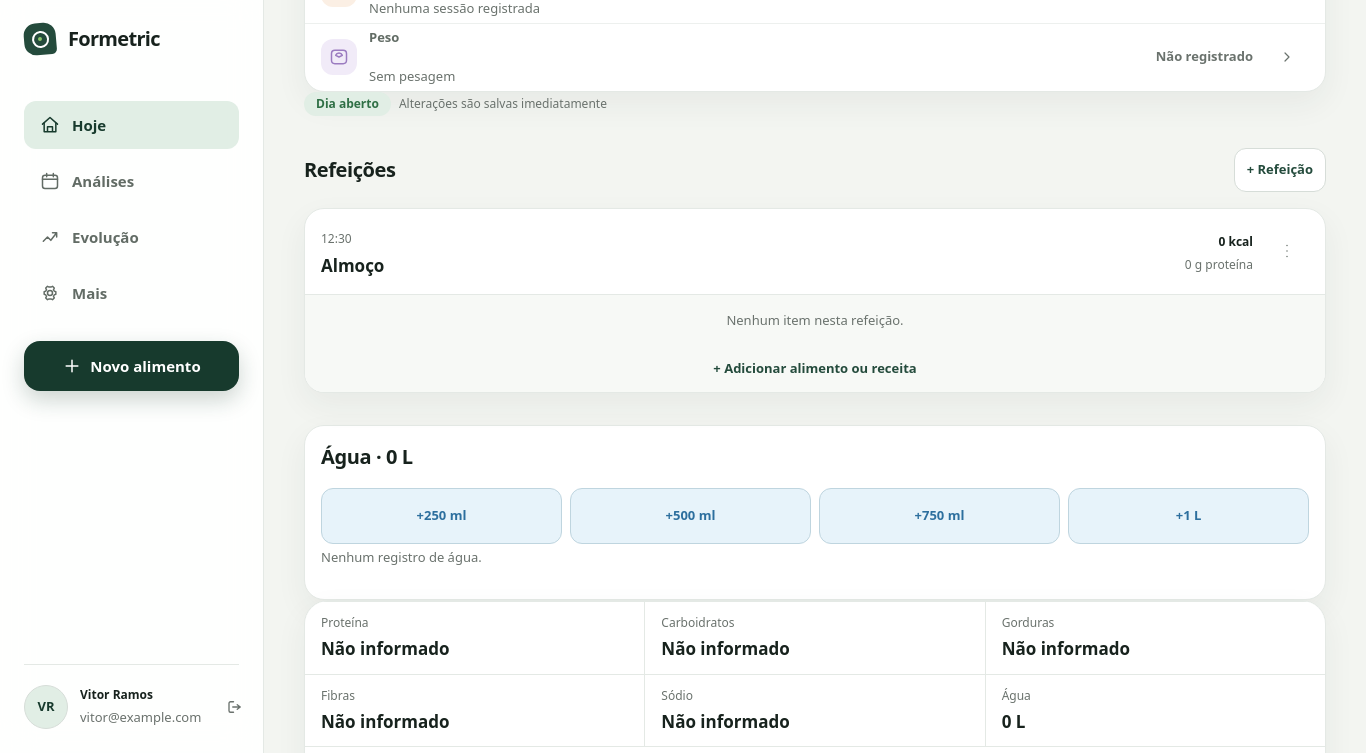
Test: diário › adiciona item usando servingOptionId e snapshot retornado
(page scrolled)
Click the button "+ Adicionar alimento ou receita" at (815, 369), box [305,347,1325,392]
(page scrolled)
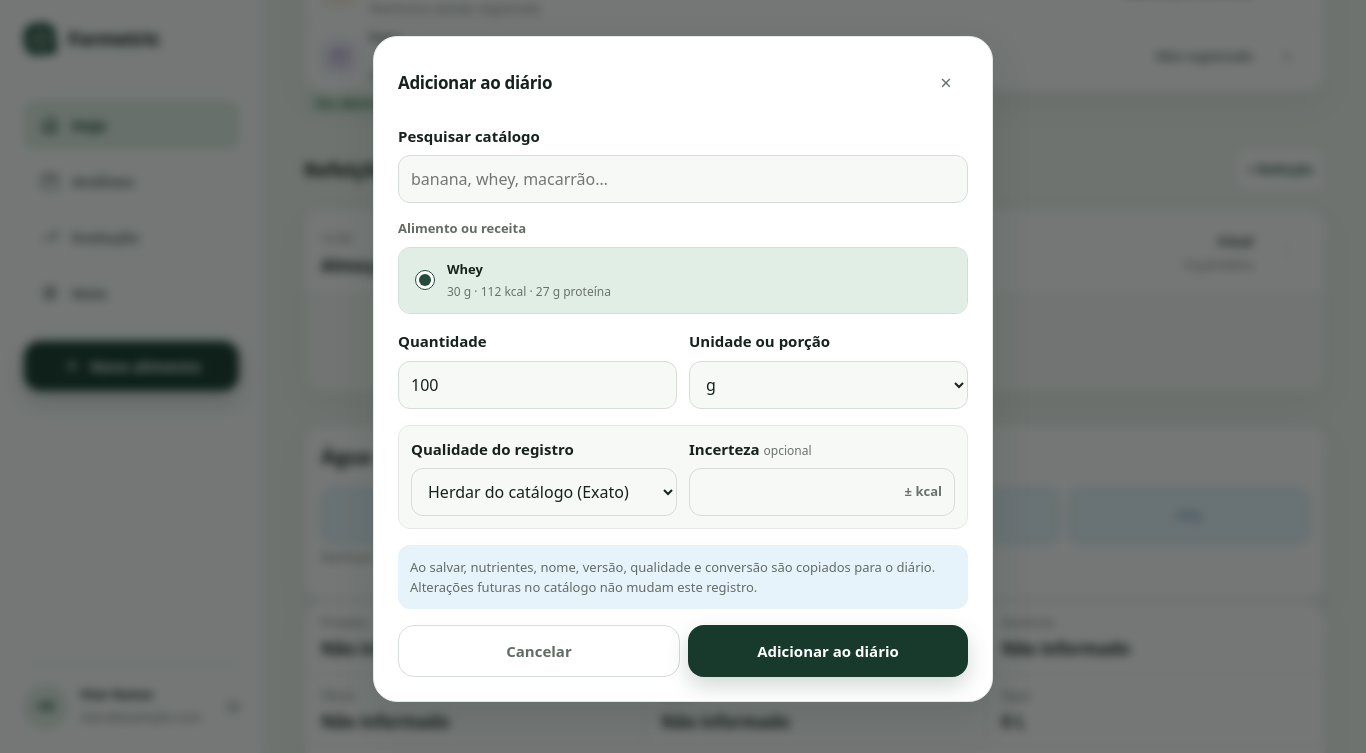
Click the radio button labelled "Whey" at (425, 280), box [415,270,435,290]
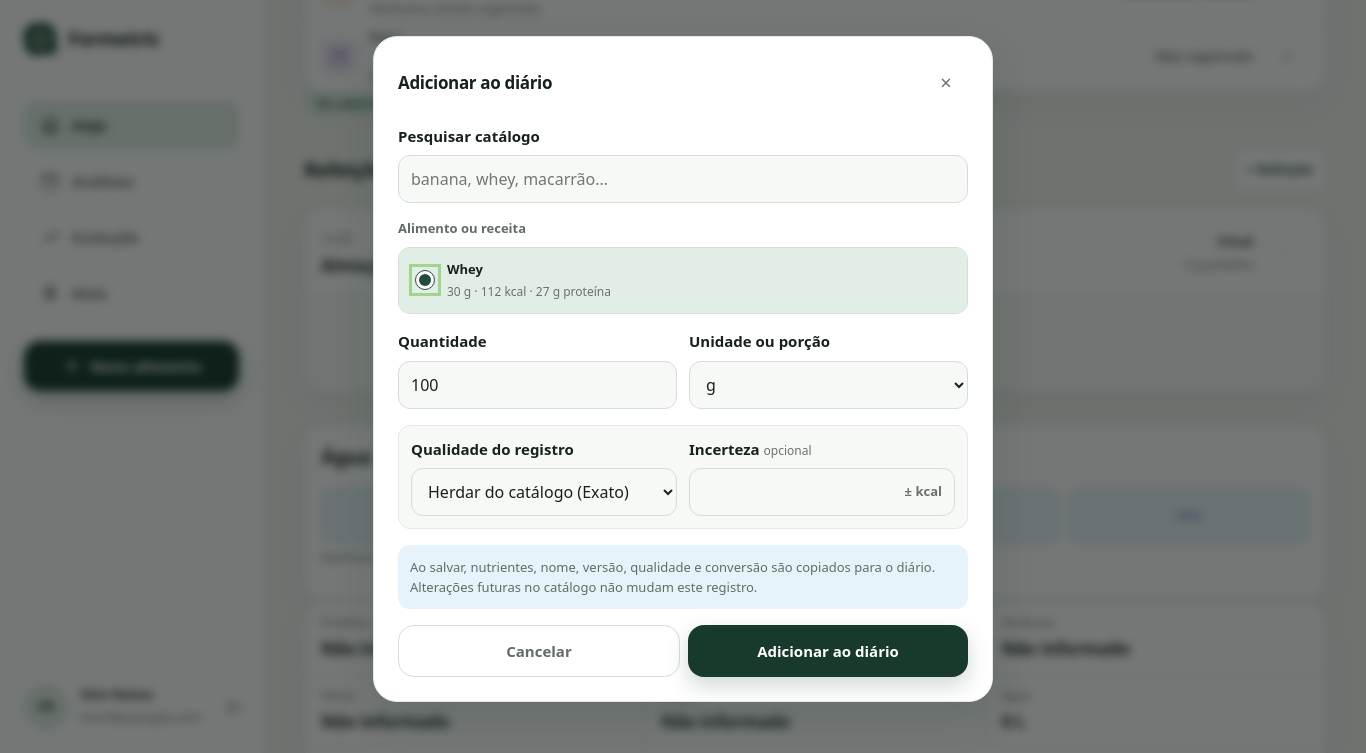
Select "Dosador (1 porção)" in the dropdown labelled "Unidade ou porção" at (828, 385), box [689,361,968,409]
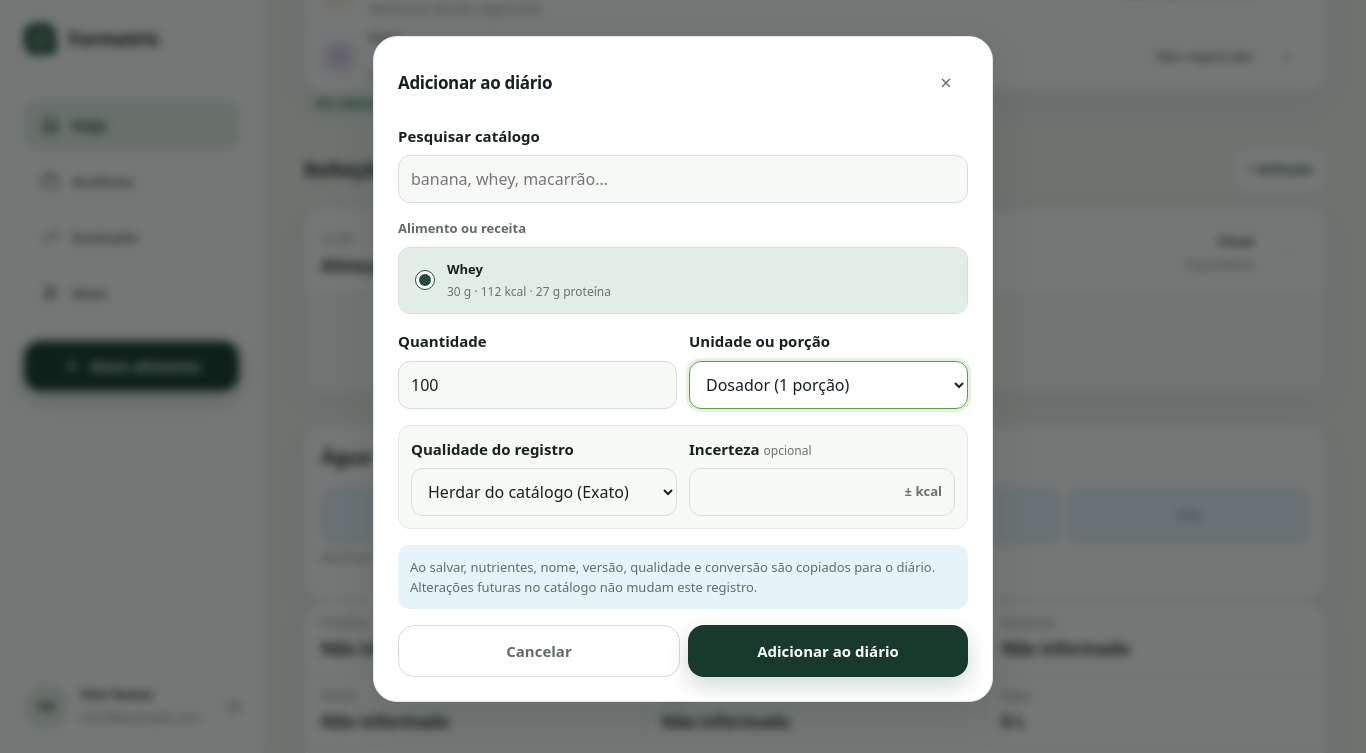
Replace the text in the number field labelled "Quantidade" with "1" at (538, 385), box [398,361,677,409]
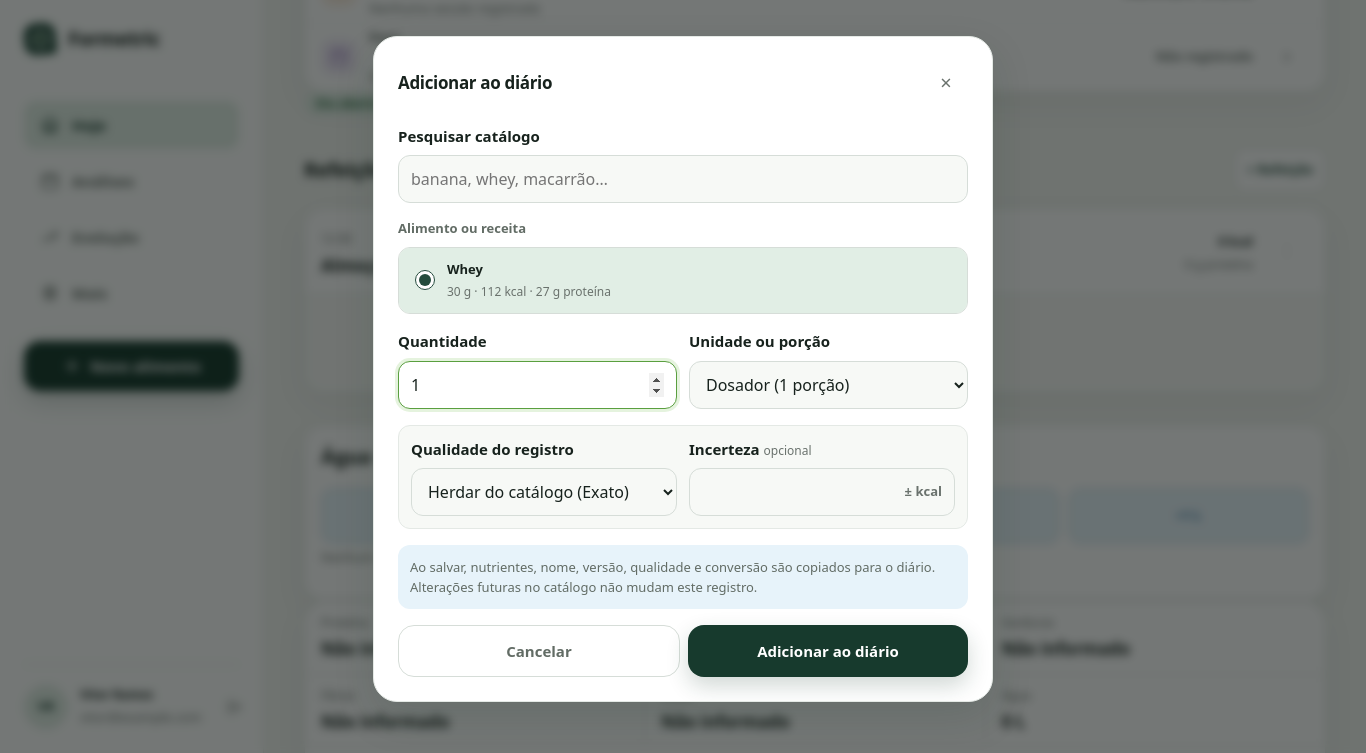
Click the button "Adicionar ao diário" at (828, 651), box [688,625,968,677]
(page scrolled)
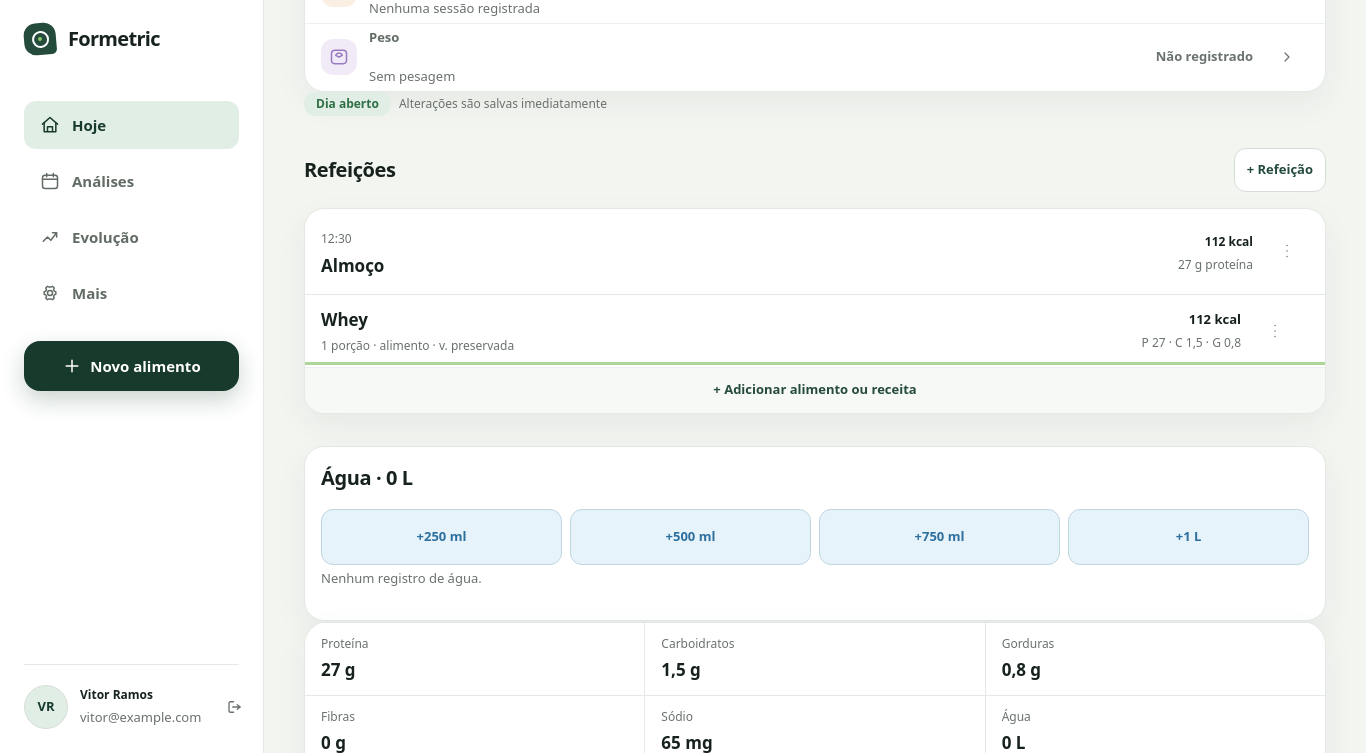
Expected: the text "112 kcal" in the row of "12:30" is shown, [1205,234,1253,250]
Expected: the text "1 porção · alimento · v. preservada" is shown, [321,337,514,354]
